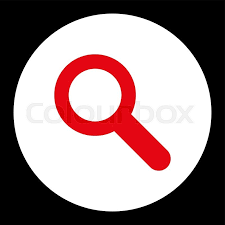searchIcon: (55, 53, 171, 169)
